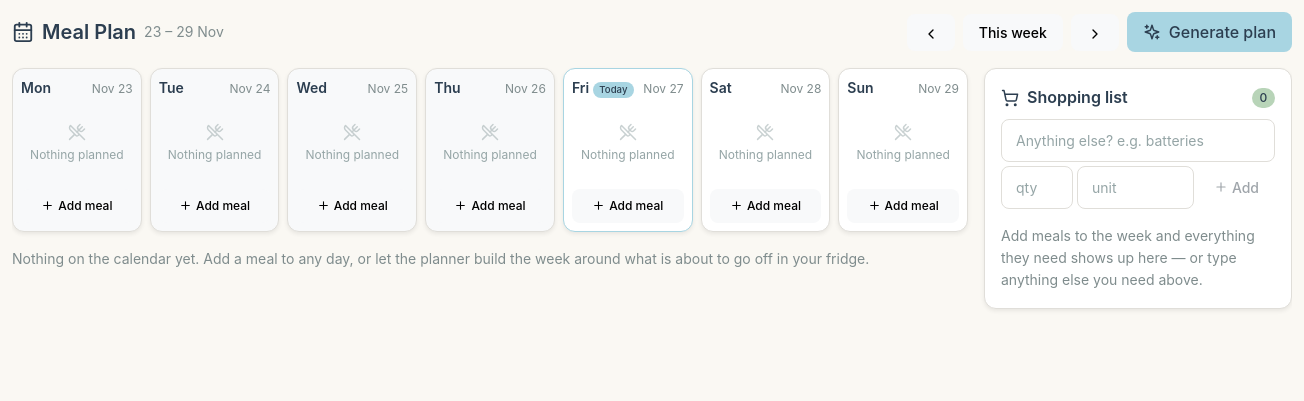
generating a plan › reports a failure rather than leaving the button spinning
Expected: the heading "Meal Plan" is shown, [42,19,136,45]
Click the button "Generate plan".
click(1209, 32)  # box [1127,12,1292,52]
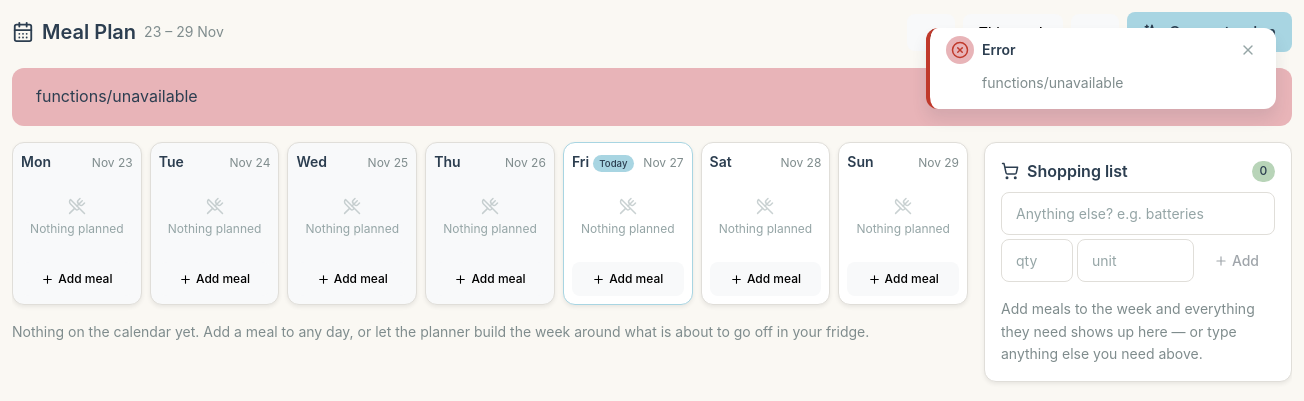
Expected: the text "functions/unavailable" is shown, [12,68,1292,126]
